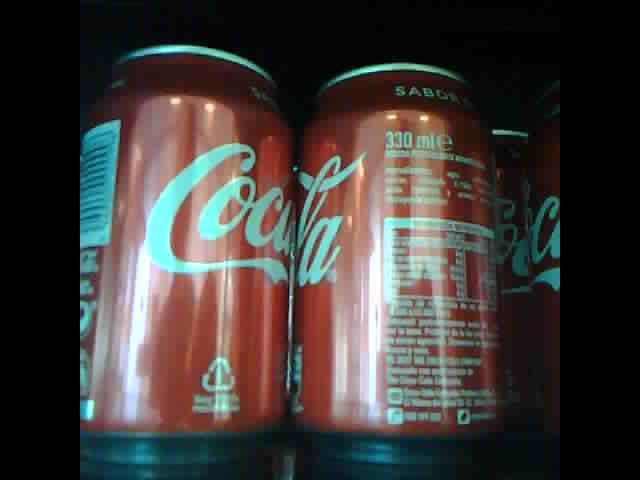coca cola: (79, 43, 299, 445), (289, 58, 494, 446), (491, 119, 561, 431)
